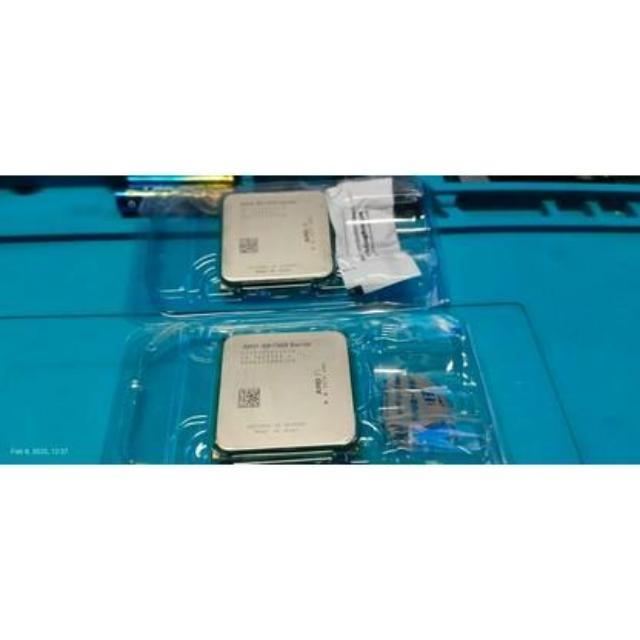CPU: (222, 333, 356, 458), (218, 192, 340, 284)
